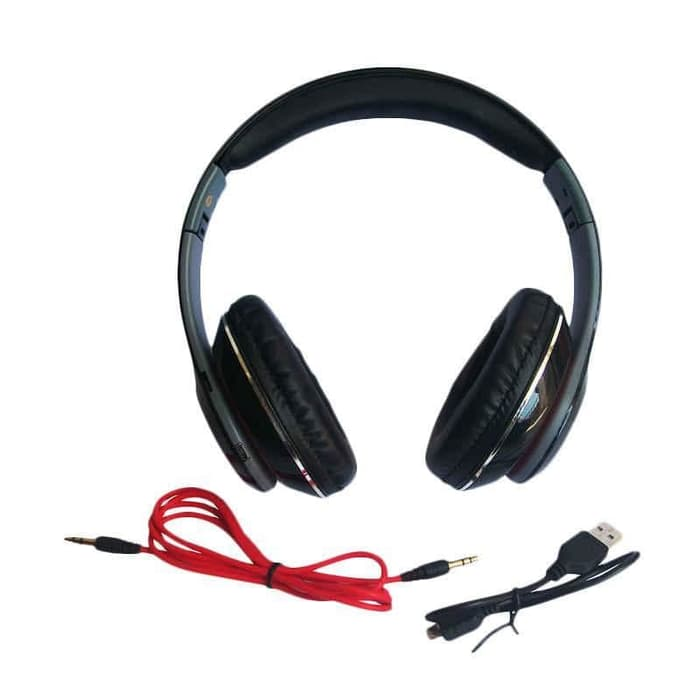Headphone: (164, 63, 612, 508)
